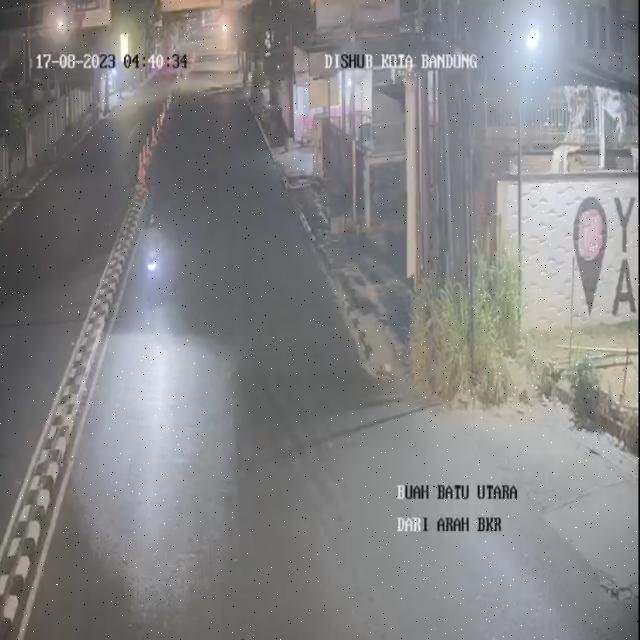motorcycle: (134, 206, 172, 318)
